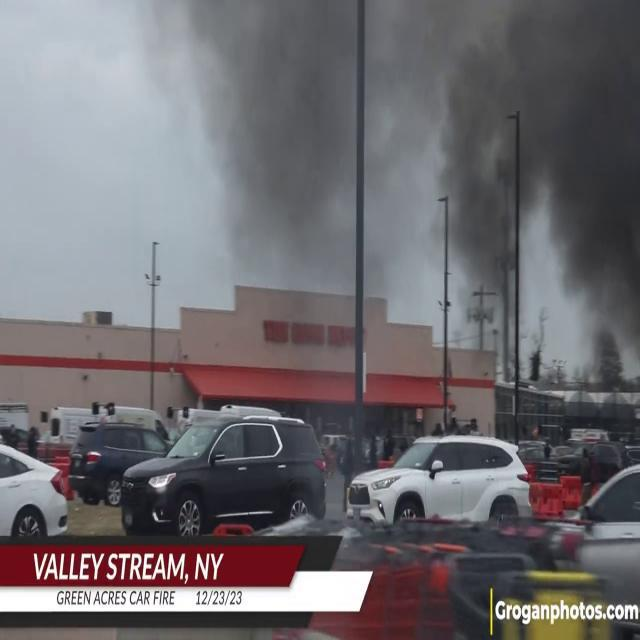Smoke: (166, 0, 638, 316)
